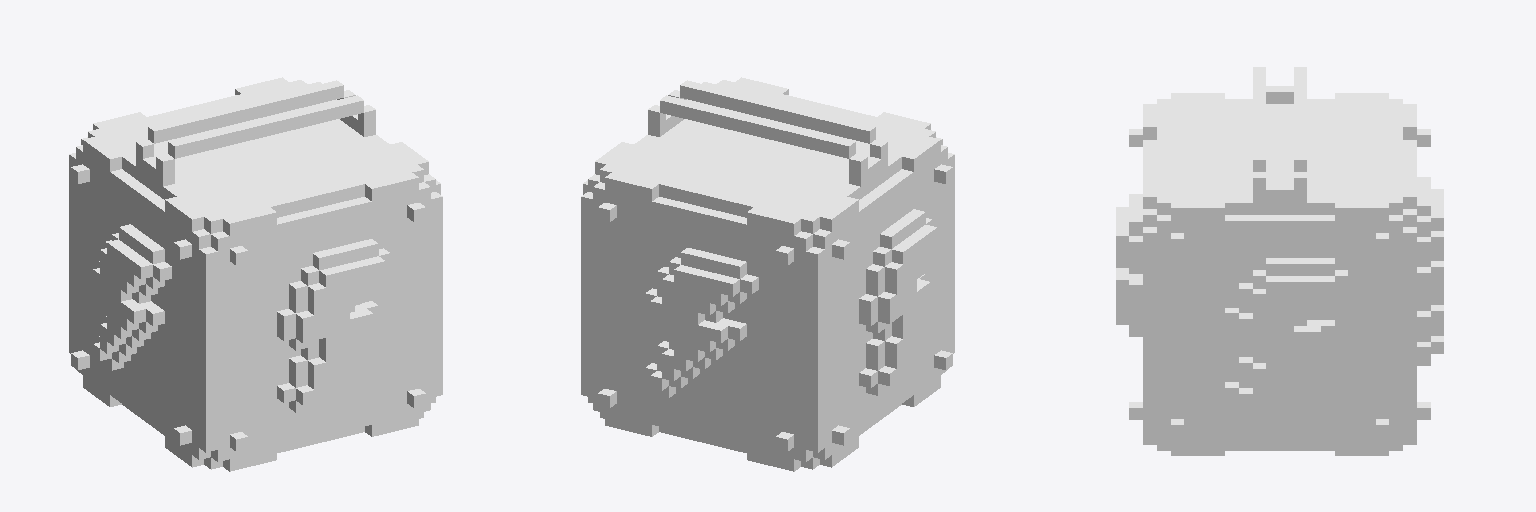
File: Damage.obj
3 views of the same model, side by side, from view 1: azimuth 30°, elevation 25°; view 2: azimuth 150°, elevation 25°; view 3: azimuth 270°, elevation 25° (orthographic).
Parts seen in each view (by area): view 1: object 1; view 2: object 1; view 3: object 1.
Boxes of the visible parts, x1,y1,x2,y2 form: object 1: [69, 77, 442, 471]; object 1: [581, 77, 954, 471]; object 1: [1116, 67, 1443, 455].
Bounding box in the file's own units: 2.4 × 2.3 × 2.4.